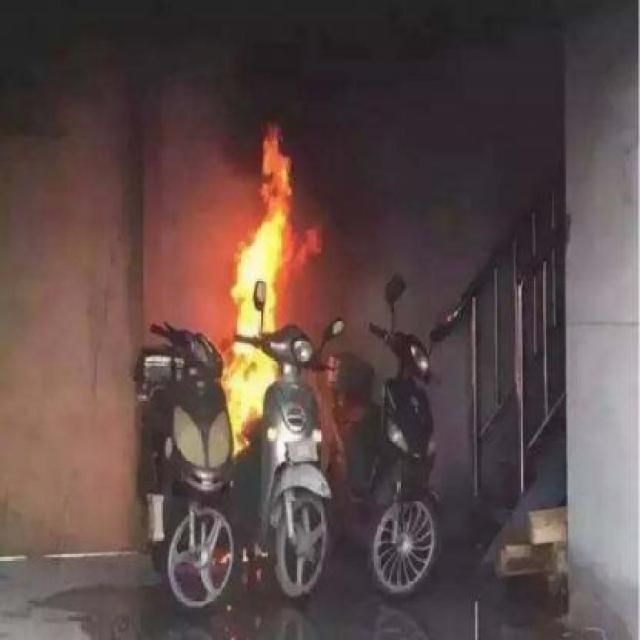Fire: (237, 128, 291, 332), (224, 337, 270, 445)
Smoke: (236, 13, 350, 219)
